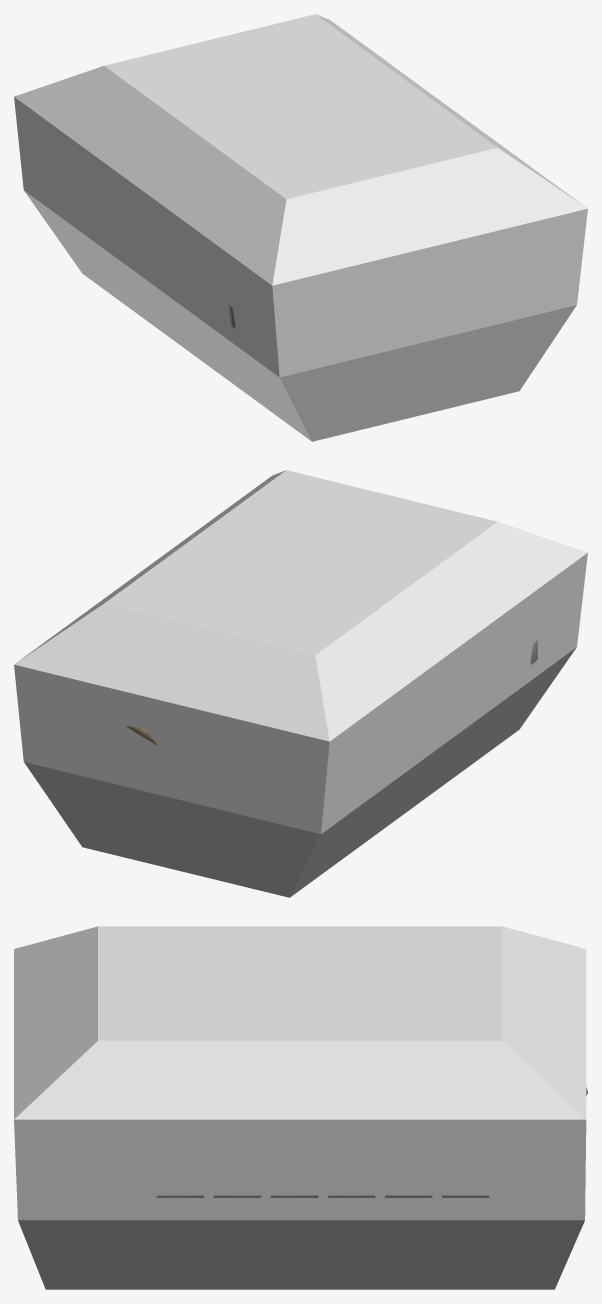
File: haber_surf.fbx
3 views of the same model, one above another, from view 1: azimuth 30°, elevation 25°; view 2: azimuth 150°, elevation 25°; view 3: azimuth 270°, elevation 25° (orthographic). The views are drawn at different scales.
Parts seen in each view (by area): view 1: col_haber; view 2: col_haber; view 3: col_haber, haber.
Part boxes in pixels (box(x1,y1,x2,y2)): col_haber: box(14, 14, 587, 441); col_haber: box(14, 470, 587, 897); col_haber: box(14, 926, 586, 1289); haber: box(156, 1087, 587, 1197).
Size of the model in its own units: 121 by 172 by 82.88.
